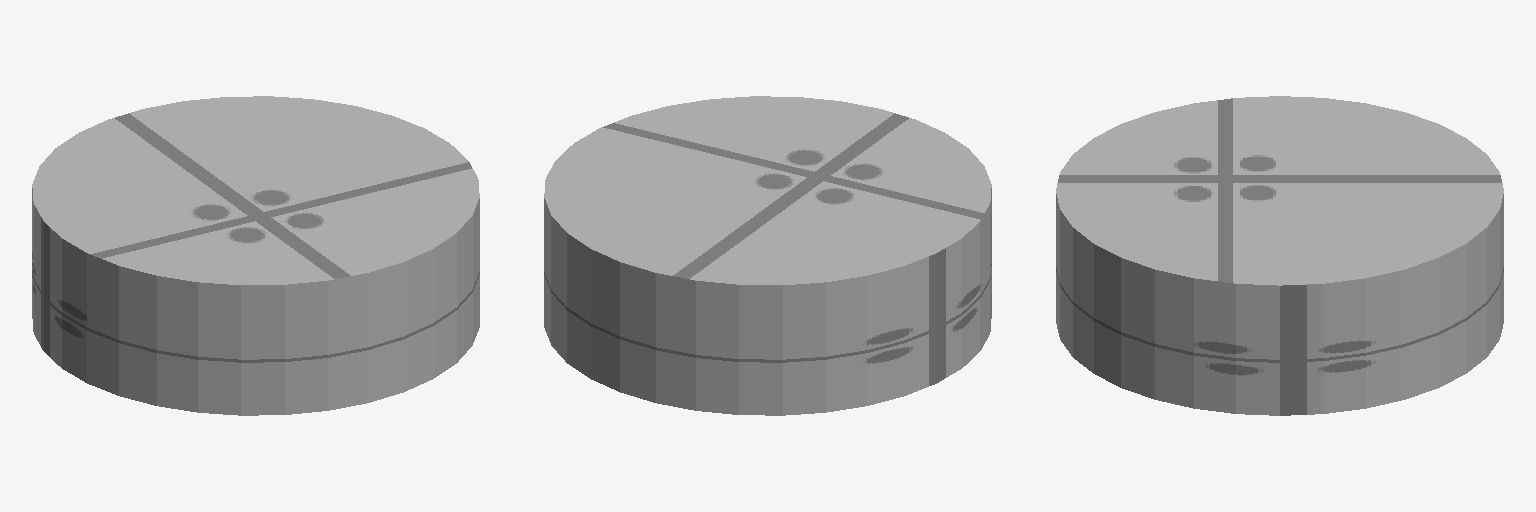
3 views of the same model, side by side, from view 1: azimuth 30°, elevation 25°; view 2: azimuth 150°, elevation 25°; view 3: azimuth 270°, elevation 25° (orthographic).
Visible parts, largest first — view 1: 円柱; view 2: 円柱; view 3: 円柱.
Part boxes in pixels (x1,y1,x2,y2): 円柱: (32,96,479,415); 円柱: (544,96,991,415); 円柱: (1056,96,1503,415).
Size of the model in its own units: 136 by 43.73 by 136.
1 materials, 1 textured.